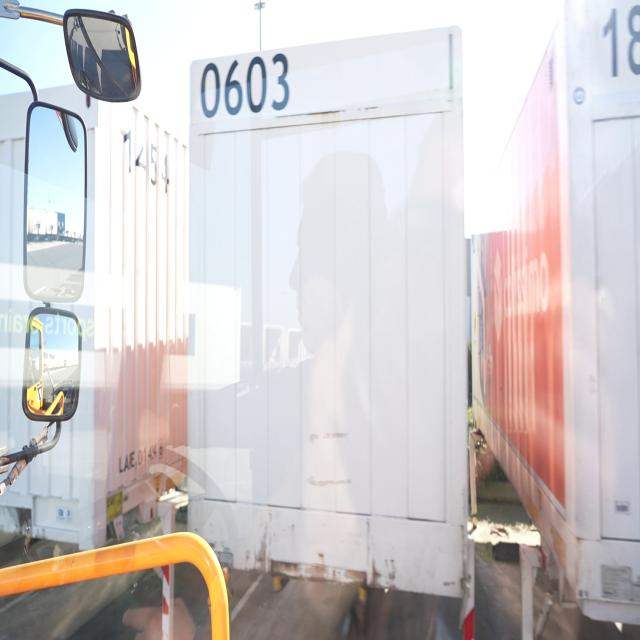Code: (197, 49, 293, 120)
